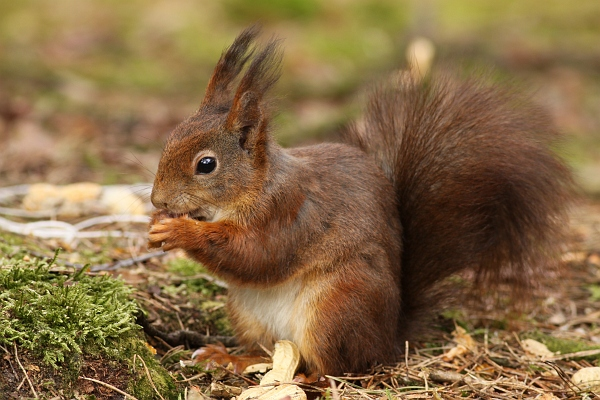Ardilla: (138, 27, 413, 363)
